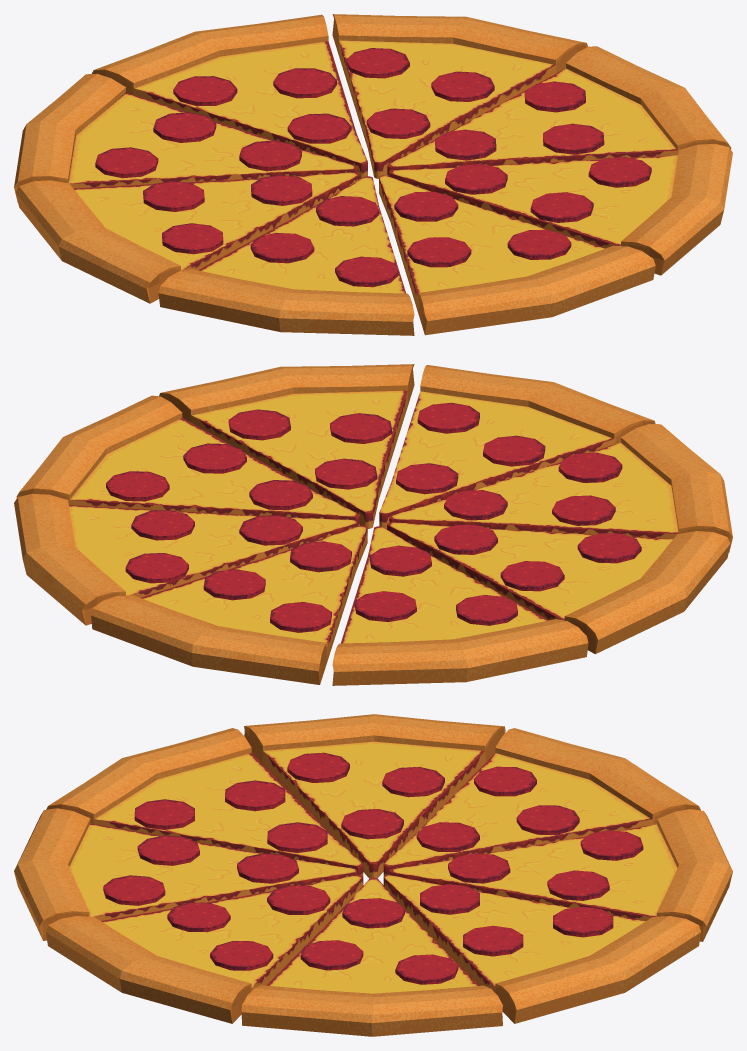
The model's file is Pizza_Peperoni.fbx.
3 renders of one model, top to bottom at view 1: azimuth 30°, elevation 25°; view 2: azimuth 150°, elevation 25°; view 3: azimuth 270°, elevation 25°, orthographic.
Parts seen in each view (by area): view 1: Cheese, Crust, peperoni; view 2: Cheese, Crust, peperoni; view 3: Cheese, Crust, peperoni.
Part boxes in pixels (x1,y1,x2,y2): Cheese: (68,40,677,296); Crust: (14,14,732,335); peperoni: (95,48,651,287); Cheese: (69,390,678,647); Crust: (14,364,732,685); peperoni: (106,402,641,632); Cheese: (69,741,677,993); Crust: (14,714,732,1036); peperoni: (103,752,643,984).
Size of the model in its own units: 37.97 by 1.52 by 37.97.
